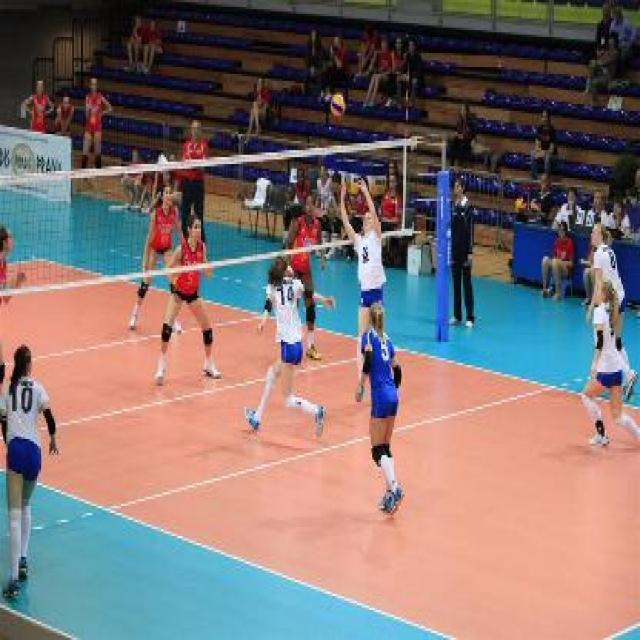volleyball: (332, 96, 346, 116)
